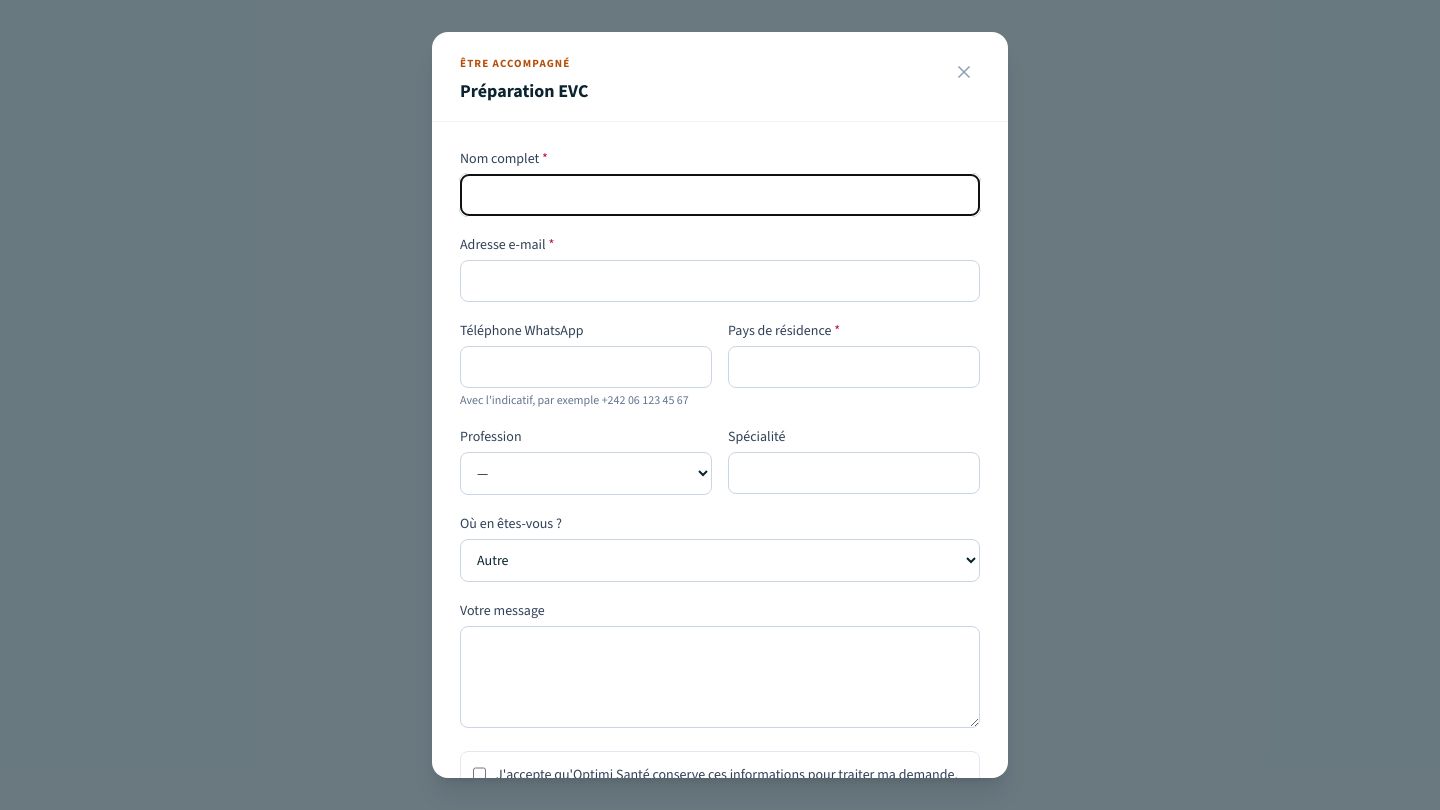
Test: fenêtre de demande › confirme sans fermer d’autorité, et le formulaire disparaît
In the field labelled "Nom complet *": (720,195) 460,174 -> 980,216, type "Dr Nkounkou"
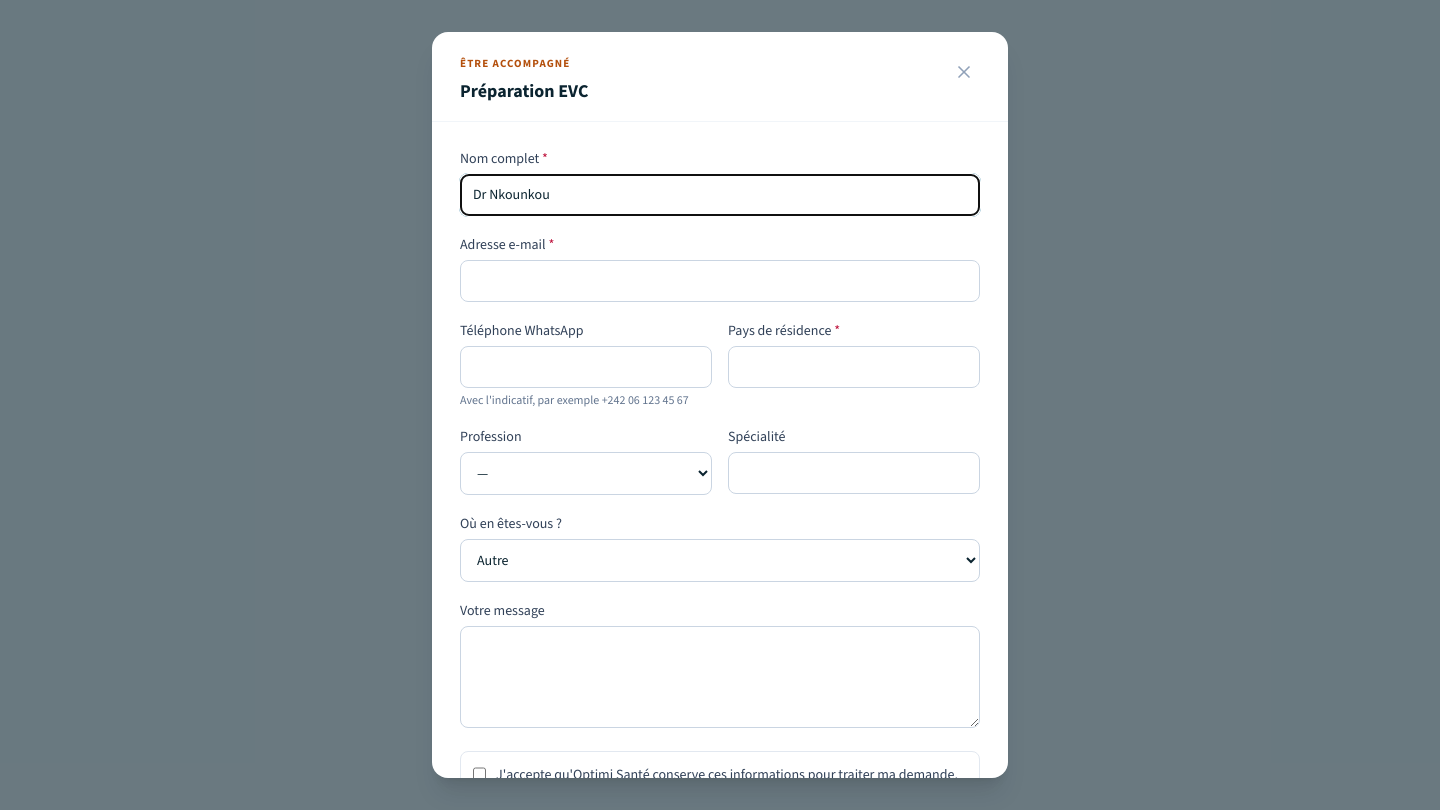
In the field labelled "Adresse e-mail *": (720,281) 460,260 -> 980,302, type "n@exemple.cg"
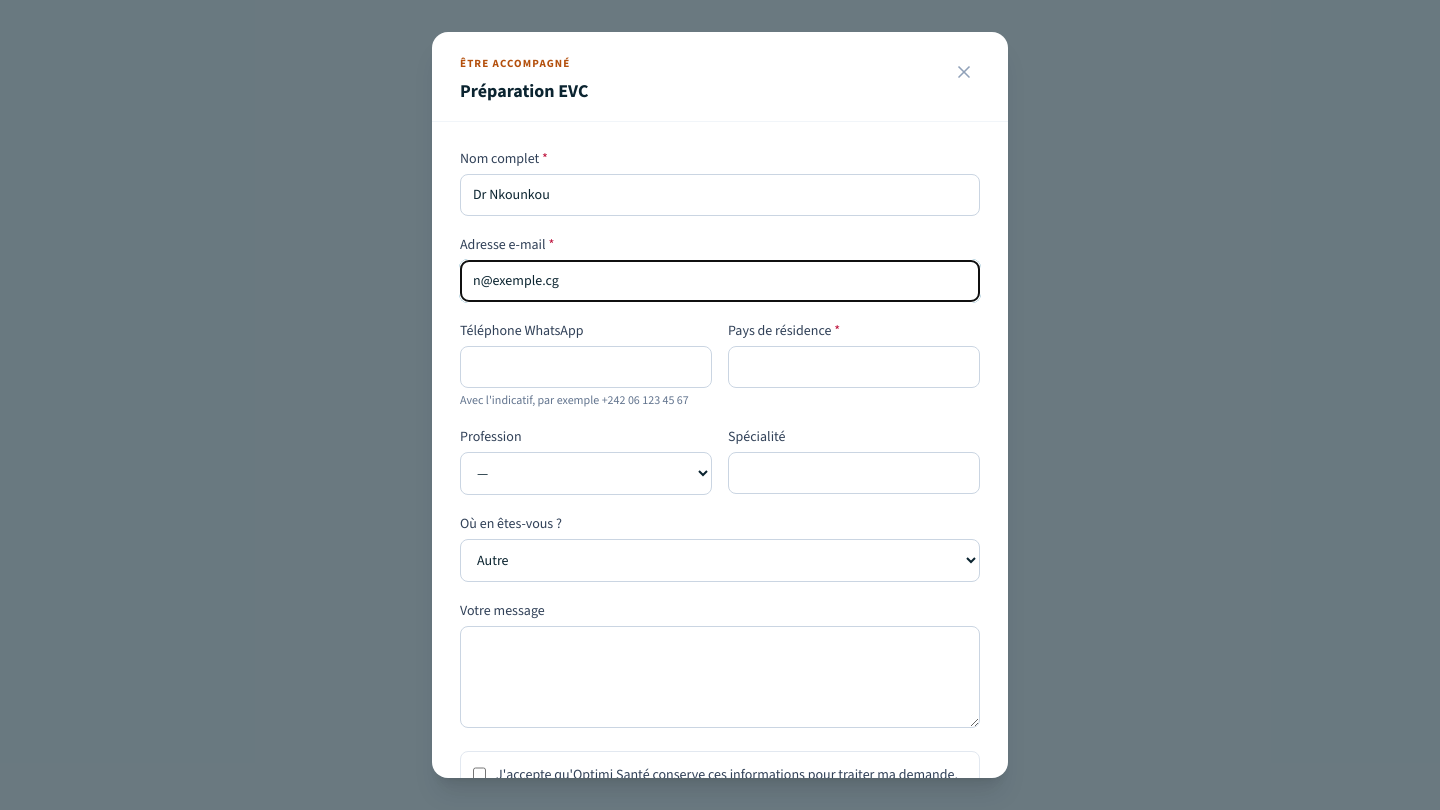
In the field labelled "Pays de résidence *": (854,367) 728,346 -> 980,388, type "Congo"
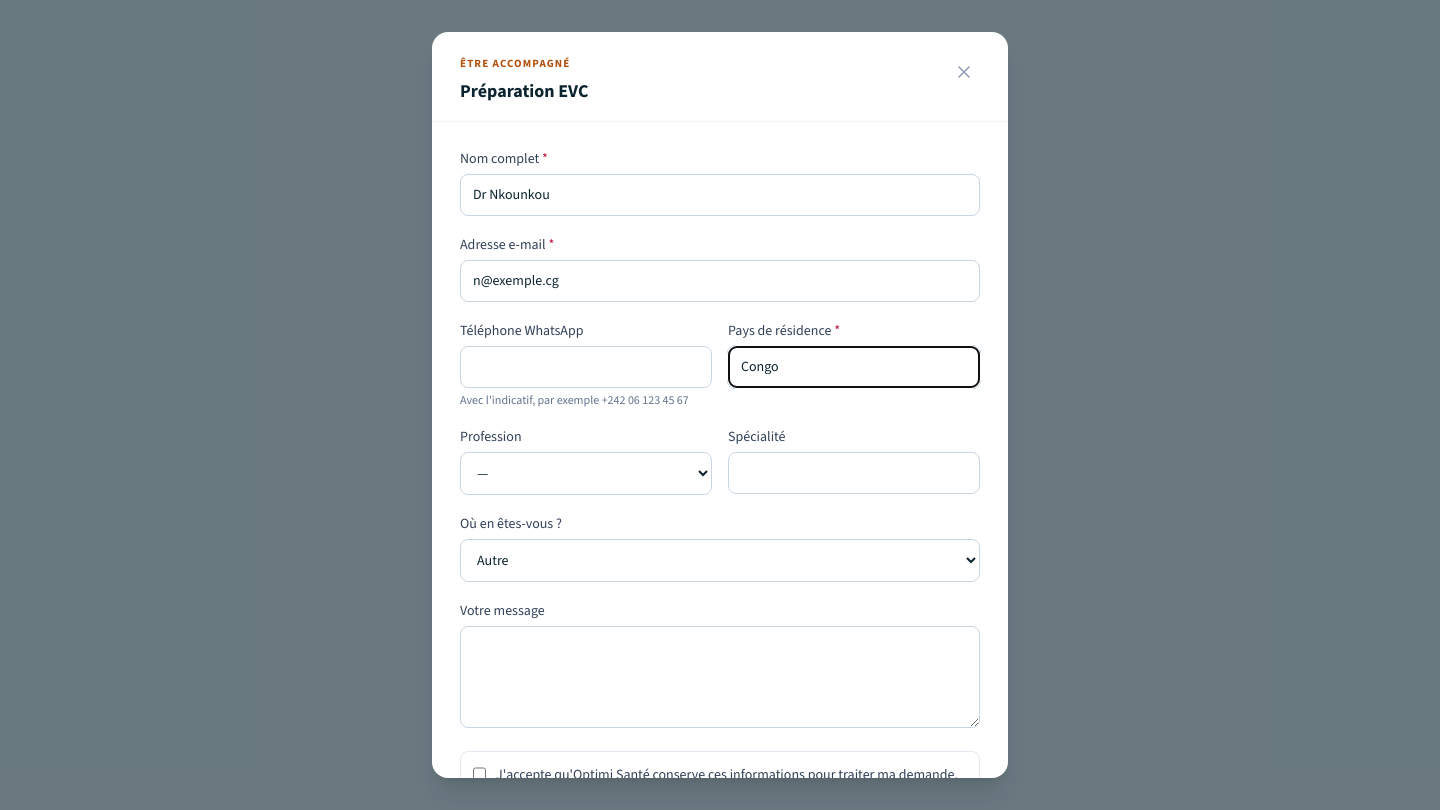
Click the checkbox: (480,774) 473,766 -> 486,782
(page scrolled)
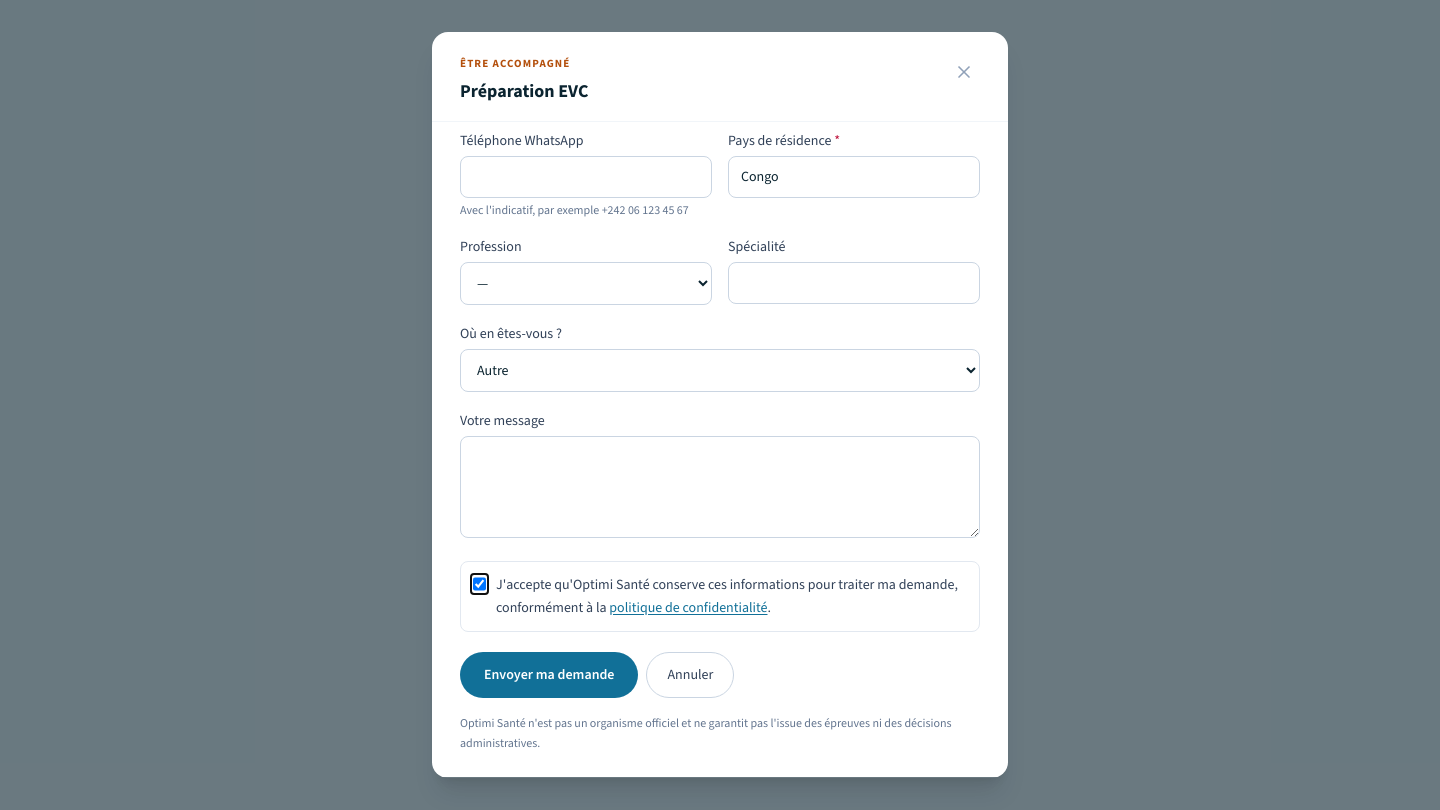
Click the button "Envoyer ma demande": (549,675) 460,652 -> 638,698
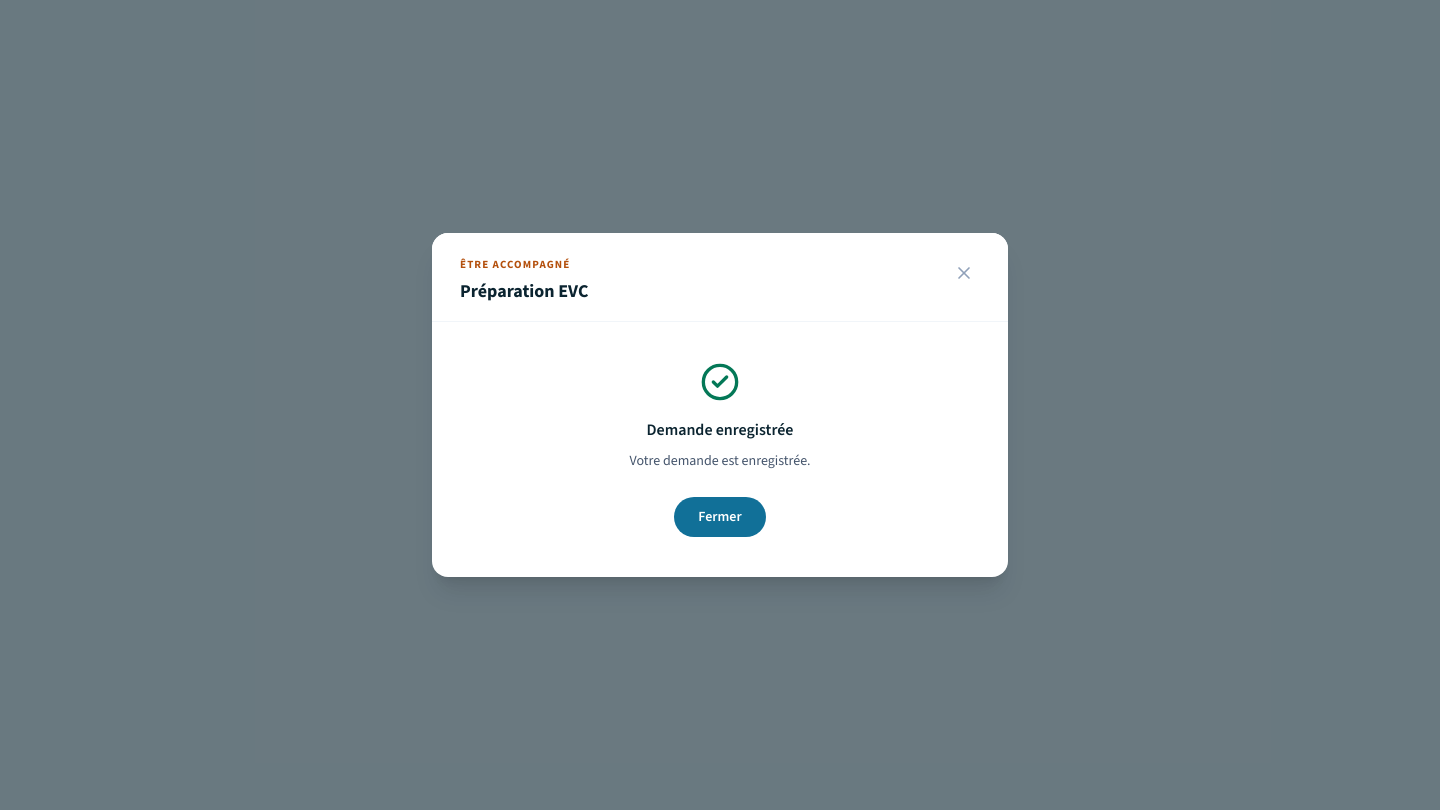
Check: the label labelled "Nom complet" is not shown
Check: the text "Demande enregistrée" is shown, box 646,419 -> 793,440
